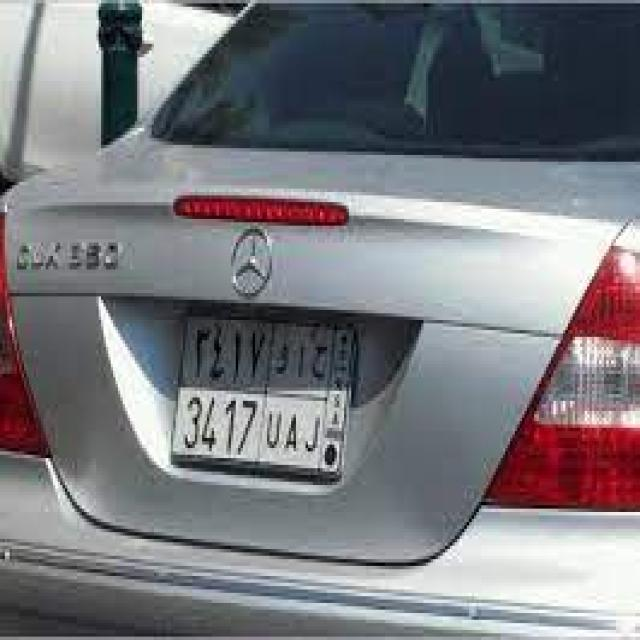license_plate: (168, 310, 361, 488)
